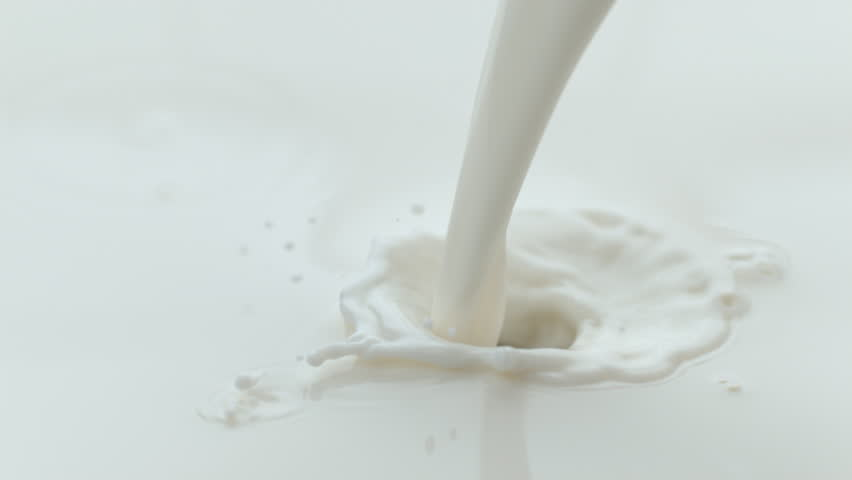glass of milk: (1, 2, 848, 480)
